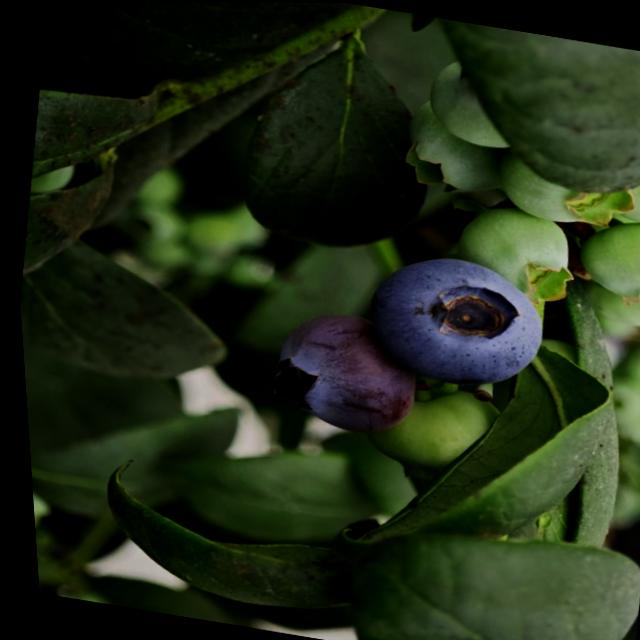RipeBlueBerry: (355, 242, 549, 397)
Semi-RipeBlueBerry: (257, 307, 426, 444)
